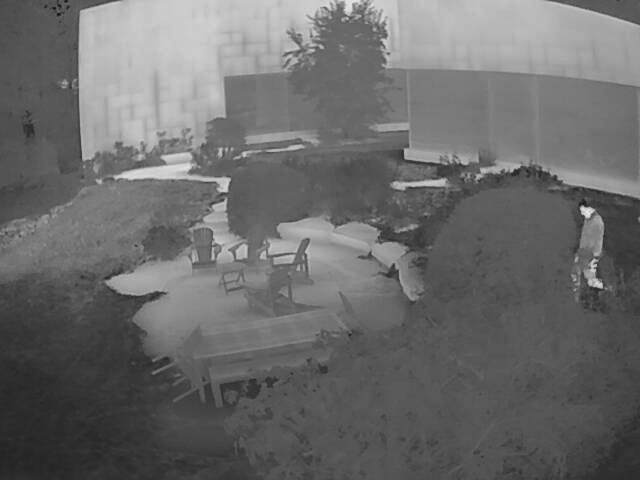person: (572, 197, 605, 304)
